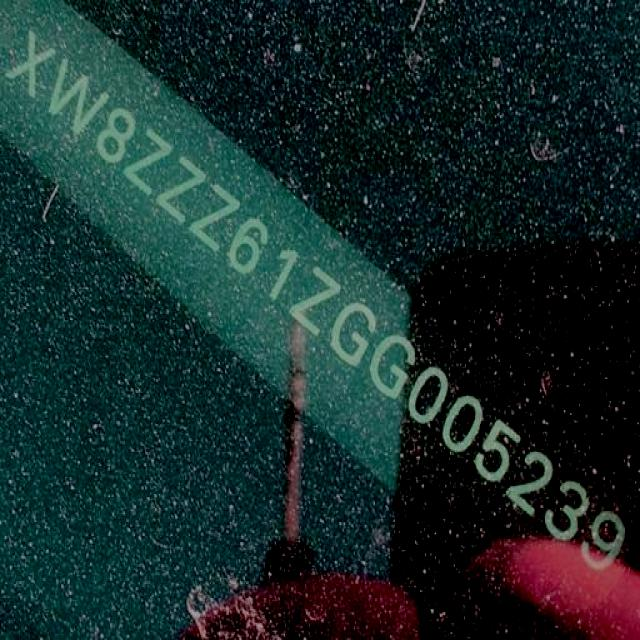0: (399, 358, 459, 439), (435, 383, 494, 465)
1: (260, 236, 307, 308)
2: (501, 440, 562, 524)
3: (537, 468, 601, 553)
5: (469, 412, 528, 497)
6: (221, 207, 282, 285)
8: (88, 96, 144, 171)
9: (574, 500, 633, 583)
G: (358, 320, 423, 410), (324, 291, 385, 376)
W: (38, 50, 115, 146)
X: (3, 22, 68, 104)
Z: (284, 259, 351, 344), (185, 175, 246, 256), (153, 151, 213, 231), (119, 122, 178, 202)
